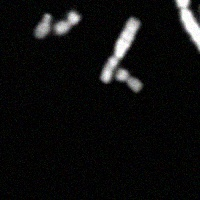chromosome: (101, 17, 140, 83), (176, 0, 200, 55), (55, 10, 81, 35), (116, 69, 143, 91), (34, 13, 51, 39)
